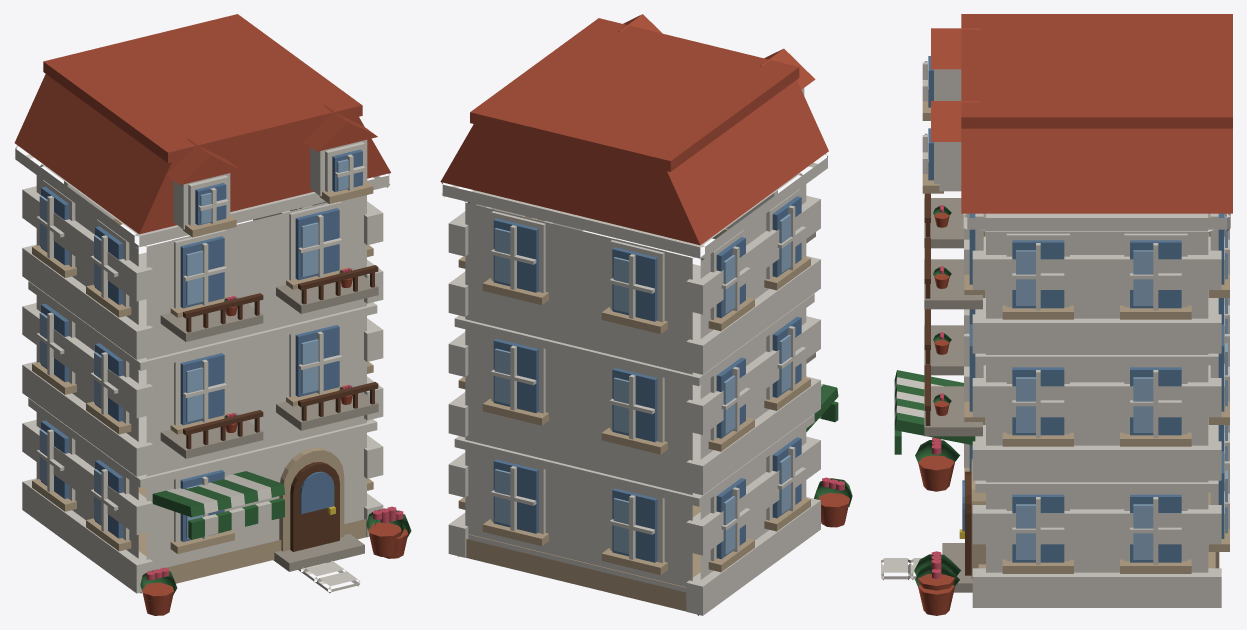
File: building-small-b.glb
3 views of the same model, side by side, from view 1: azimuth 30°, elevation 25°; view 2: azimuth 150°, elevation 25°; view 3: azimuth 270°, elevation 25° (orthographic). The views are drawn at different scales.
Visible parts, largest first — view 1: building-small-b; view 2: building-small-b; view 3: building-small-b.
Boxes of the visible parts, x1=… form: building-small-b: x1=14, y1=14, x2=411, y2=615; building-small-b: x1=440, y1=14, x2=852, y2=615; building-small-b: x1=881, y1=14, x2=1232, y2=615.
Bounding box in the file's own units: 0.8156 × 1.31 × 0.86.
